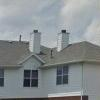Chimney: (23, 19, 72, 63)
